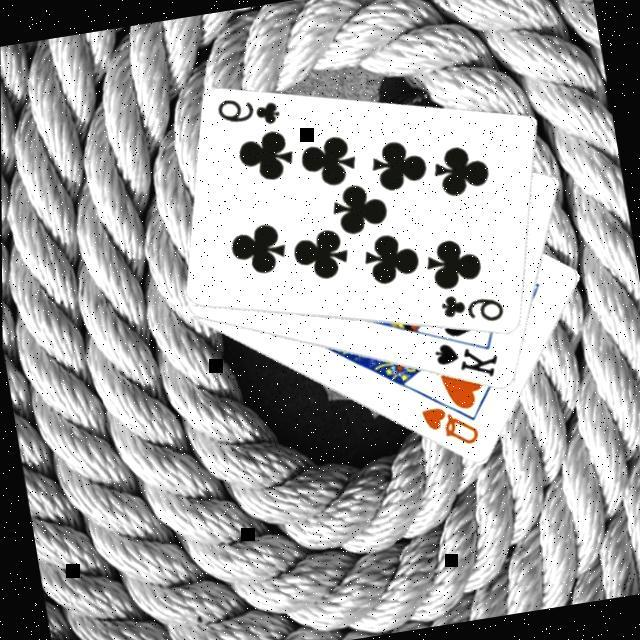9C: (435, 287, 508, 335), (212, 91, 285, 139)
KS: (428, 335, 502, 391)
QH: (415, 399, 483, 458)
